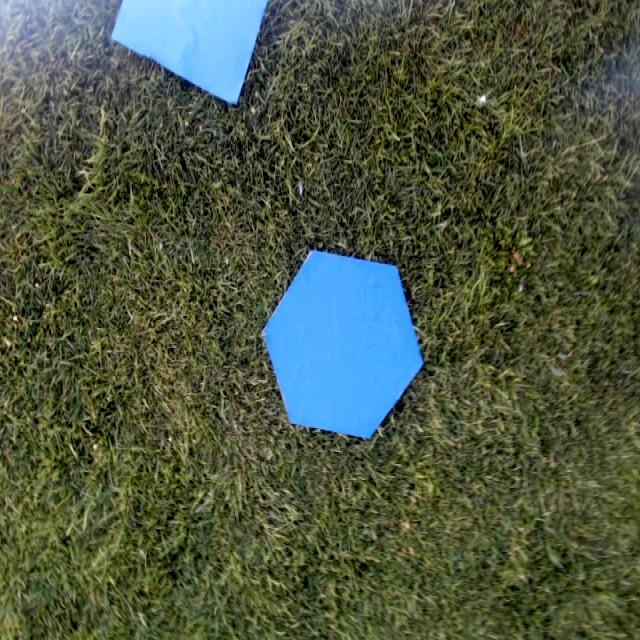blue_hexagon: (259, 249, 427, 441)
